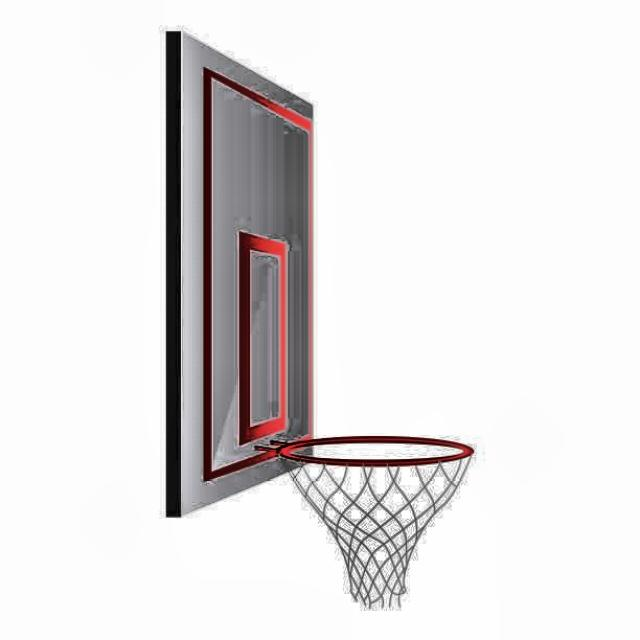rim: (282, 435, 474, 607)
